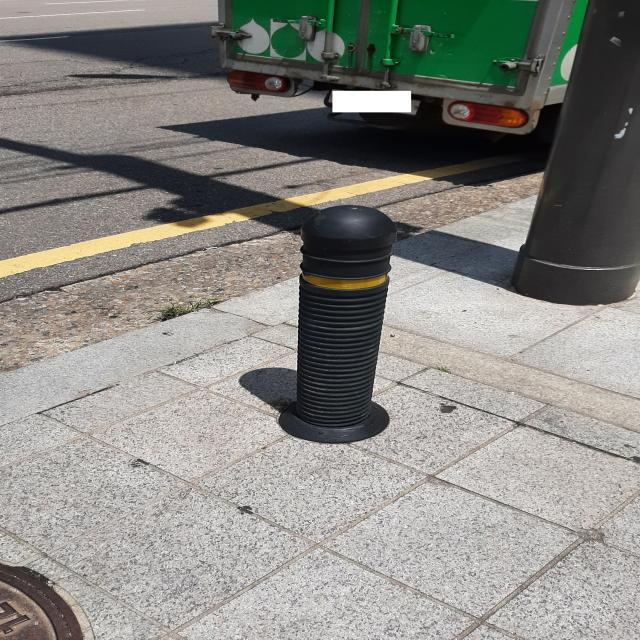pole: (278, 204, 396, 443)
